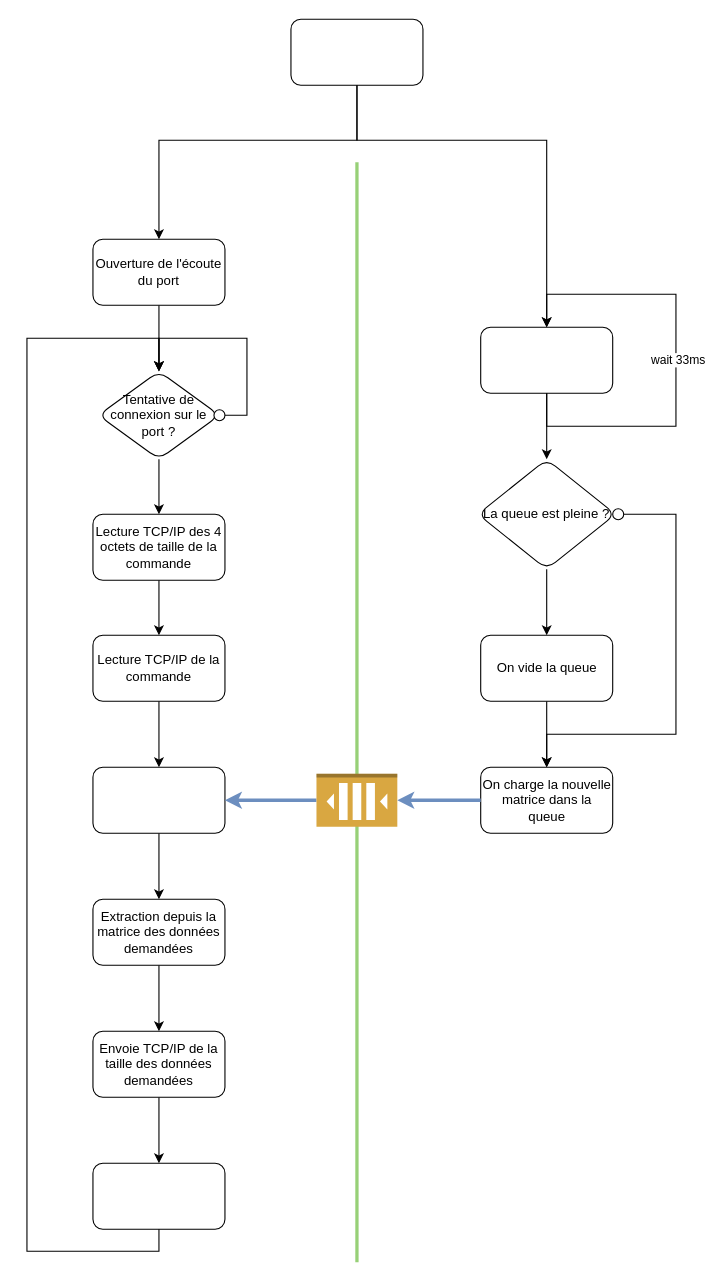
Some shapes in this 724 by 1284 pixel diagram are drawn without their labels. The shapes that lost their labels are listed below. From the top down, each one's centre as x and y in pixels, then its label:
At pixel 356 51: "Création de la queue".
At pixel 546 359: "Génération d'une nouvelle matrice".
At pixel 158 799: "Extraction depuis la queue de la matricee".
At pixel 158 1195: "Envoie TCP/IP des données demandées".
